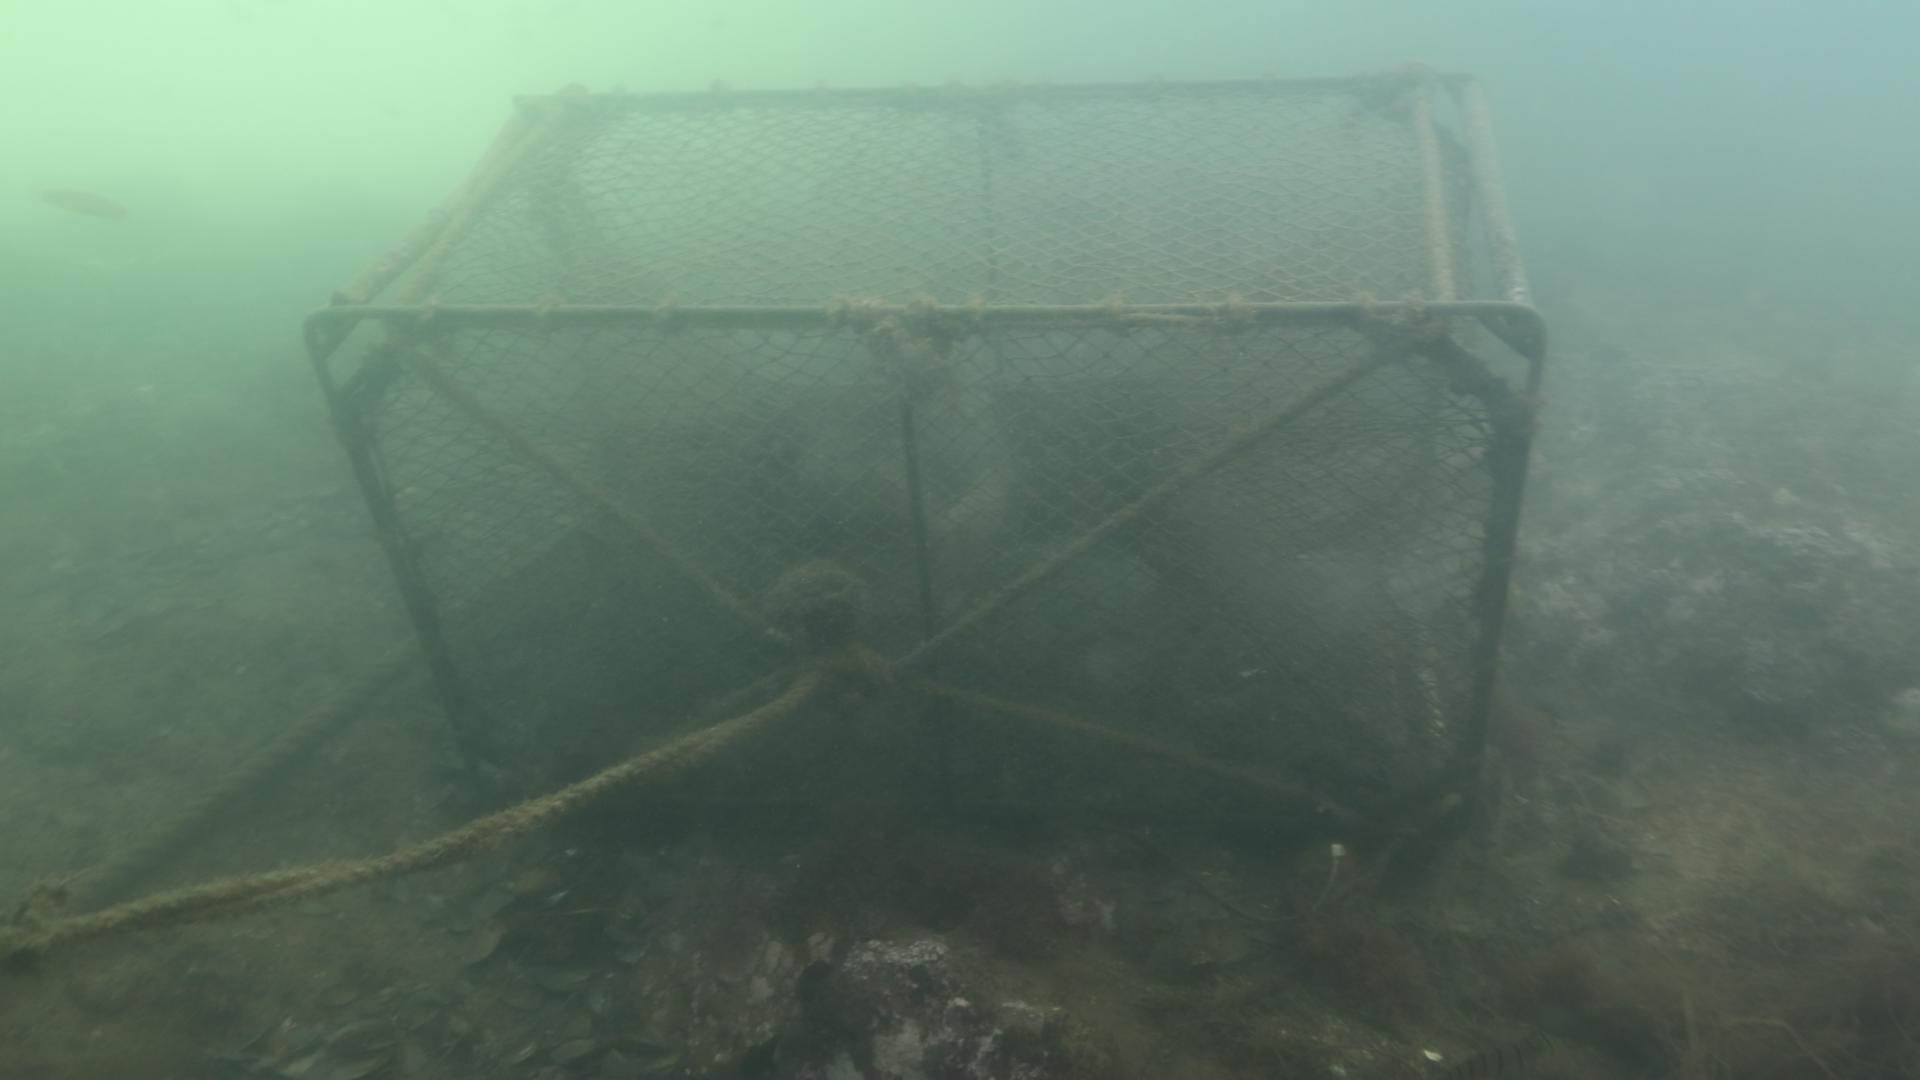bundle of ropes: (0, 669, 818, 971)
rectangular fish trap: (299, 61, 1553, 845)
